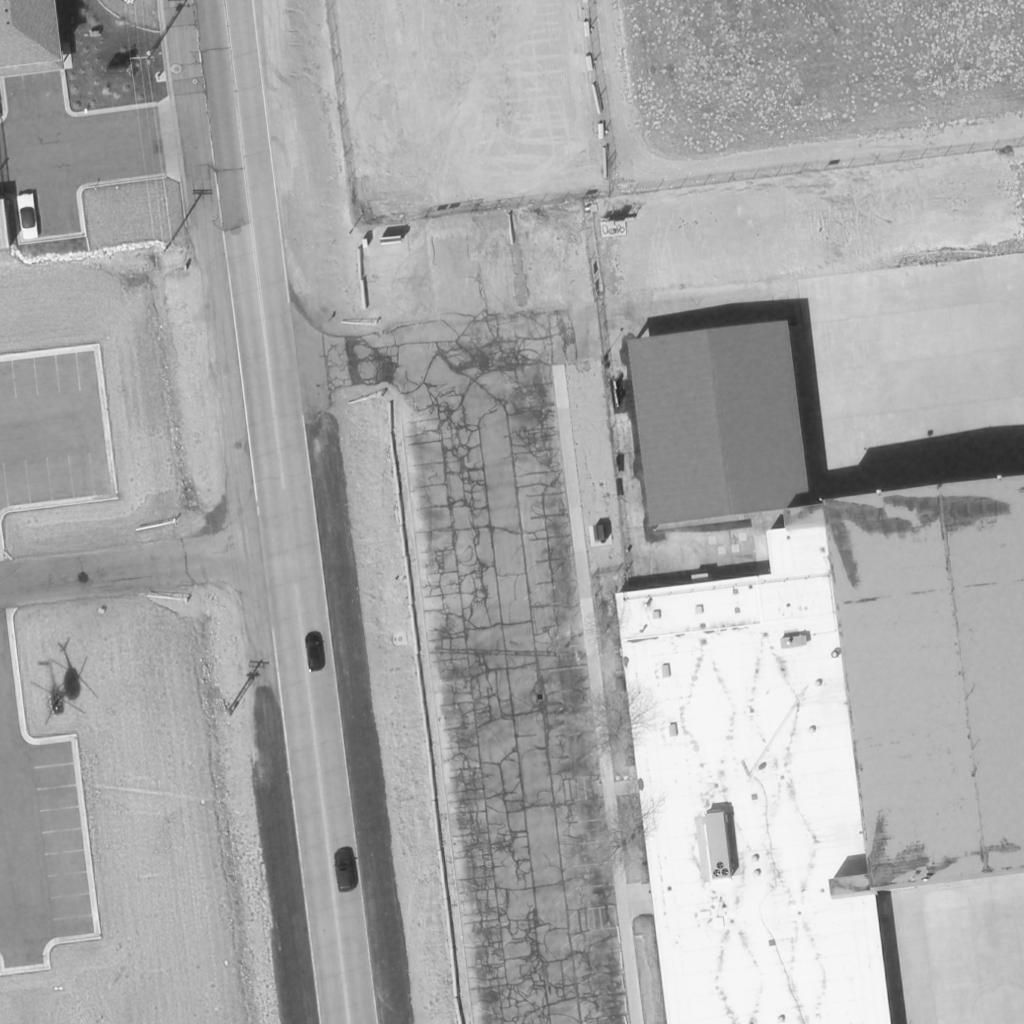vehicle: (15, 195, 39, 239), (335, 850, 355, 892), (305, 633, 325, 671)
